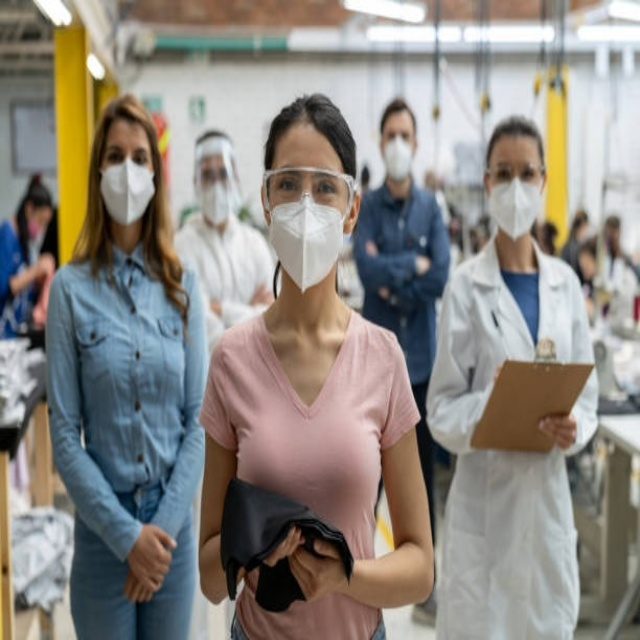Gafas: (262, 165, 356, 220), (486, 164, 543, 184), (198, 167, 230, 183)
Mascara: (268, 193, 344, 296), (486, 182, 544, 240), (100, 163, 157, 221), (196, 182, 233, 226), (384, 132, 415, 182)
Sin_gafas: (101, 140, 150, 165)
Sin_guantes: (283, 533, 349, 603), (124, 523, 179, 603), (538, 411, 578, 451)
